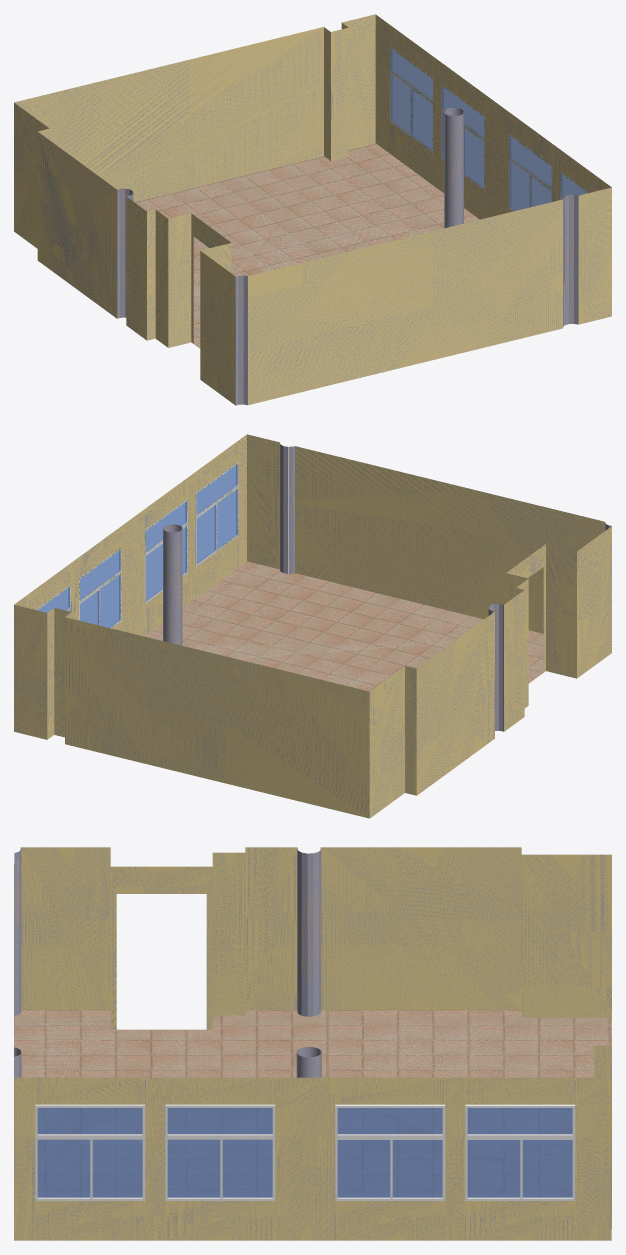
The model's file is AUL023.obj.
3 renders of one model, top to bottom at view 1: azimuth 30°, elevation 25°; view 2: azimuth 150°, elevation 25°; view 3: azimuth 270°, elevation 25°, orthographic. The views are drawn at different scales.
Visible parts, largest first — view 1: Mesh25 AUL023 Model, Mesh1 ventana1_1 AUL023 Model, Mesh19 ventana1_4 AUL023 Model, Mesh13 ventana1_3 AUL023 Model; view 2: Mesh25 AUL023 Model, Mesh7 ventana1_2 AUL023 Model, Mesh13 ventana1_3 AUL023 Model, Mesh19 ventana1_4 AUL023 Model; view 3: Mesh25 AUL023 Model, Mesh1 ventana1_1 AUL023 Model, Mesh7 ventana1_2 AUL023 Model, Mesh13 ventana1_3 AUL023 Model, Mesh19 ventana1_4 AUL023 Model.
Part boxes in pixels (<box>): Mesh25 AUL023 Model: <box>14,14,611,405</box>; Mesh1 ventana1_1 AUL023 Model: <box>390,46,433,153</box>; Mesh19 ventana1_4 AUL023 Model: <box>508,133,552,211</box>; Mesh13 ventana1_3 AUL023 Model: <box>441,84,484,190</box>; Mesh25 AUL023 Model: <box>14,434,611,818</box>; Mesh7 ventana1_2 AUL023 Model: <box>195,462,238,566</box>; Mesh13 ventana1_3 AUL023 Model: <box>79,547,121,628</box>; Mesh19 ventana1_4 AUL023 Model: <box>145,499,187,603</box>; Mesh25 AUL023 Model: <box>14,847,611,1240</box>; Mesh1 ventana1_1 AUL023 Model: <box>465,1104,575,1200</box>; Mesh7 ventana1_2 AUL023 Model: <box>35,1104,145,1200</box>; Mesh13 ventana1_3 AUL023 Model: <box>335,1104,445,1200</box>; Mesh19 ventana1_4 AUL023 Model: <box>165,1104,275,1200</box>.
Bounding box in the file's own units: 10.95 × 3.6 × 11.96.
8 materials, 2 textured.
